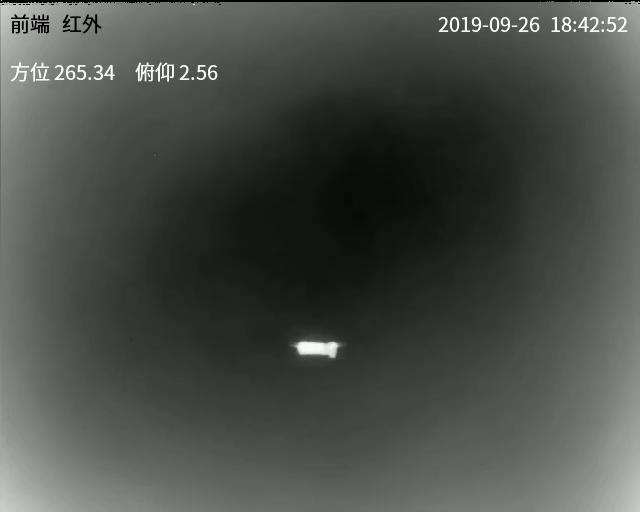uav: (285, 334, 347, 362)
